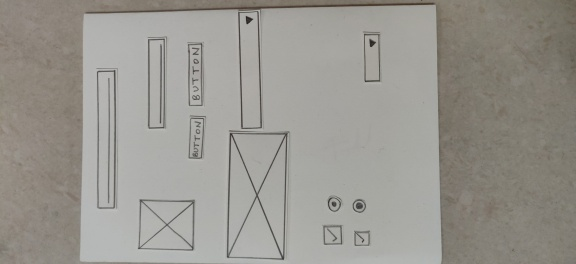button: (185, 41, 205, 107), (187, 115, 203, 160)
checkbox: (322, 222, 343, 245), (352, 231, 370, 246)
dropdown: (237, 10, 264, 129), (362, 31, 381, 81)
img: (228, 130, 288, 264), (137, 197, 196, 253)
radio: (325, 194, 343, 213), (350, 197, 366, 214)
text: (93, 69, 119, 212), (146, 37, 168, 131)
